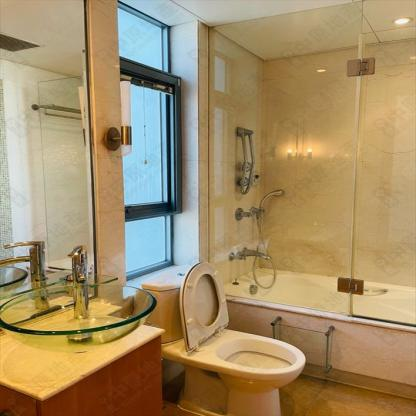Bathtub: (223, 265, 415, 399)
Toilet: (139, 260, 305, 414)
Toilet Sink: (1, 282, 156, 350)
Water Cubicle: (207, 1, 361, 315)
